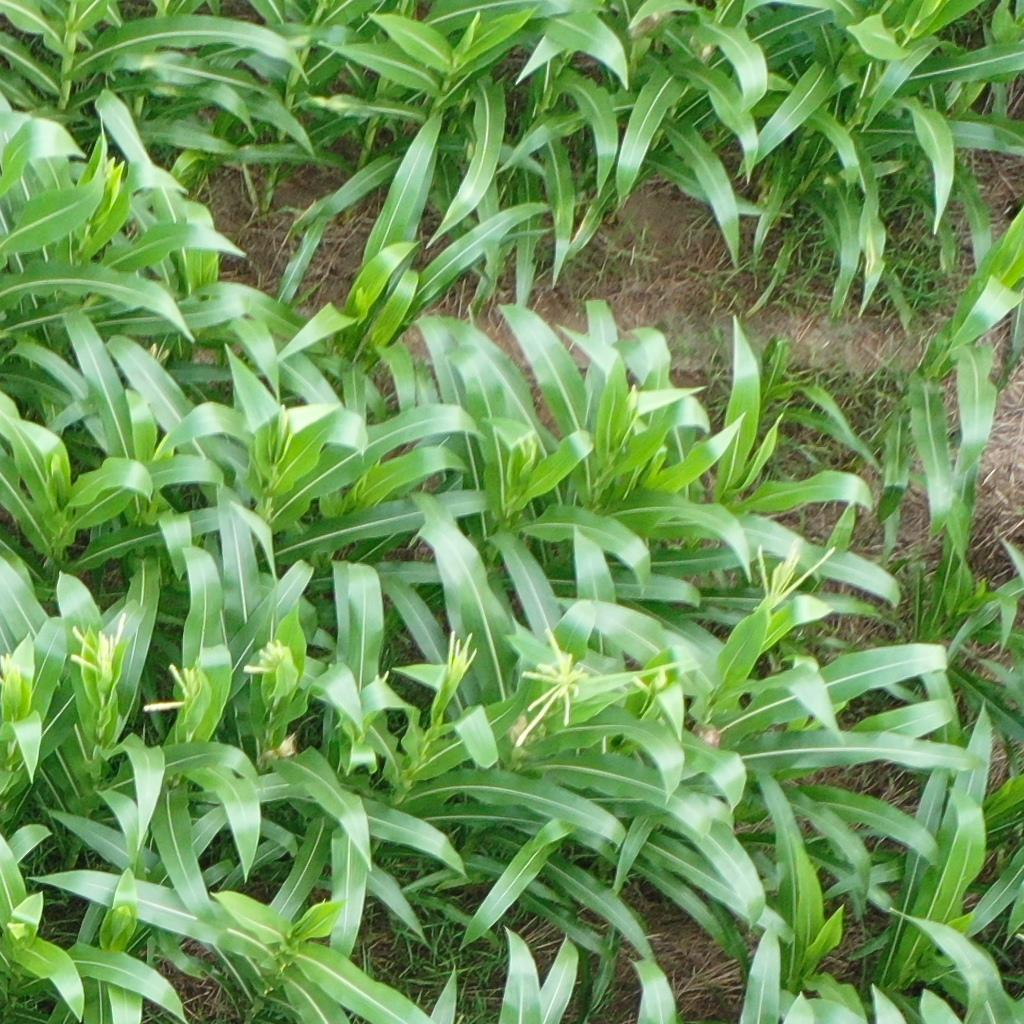Tassel: (512, 623, 586, 747), (754, 536, 834, 614), (64, 612, 129, 684), (142, 665, 198, 717), (439, 628, 478, 690), (627, 663, 675, 706), (239, 639, 290, 679), (1, 653, 27, 691)
